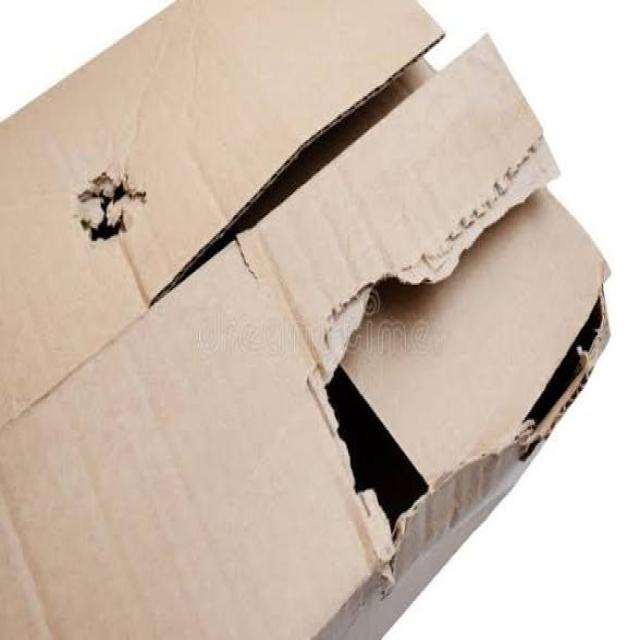carton_box: (0, 0, 631, 640)
package_damage: (280, 83, 619, 621), (136, 14, 521, 330), (53, 150, 174, 278)
